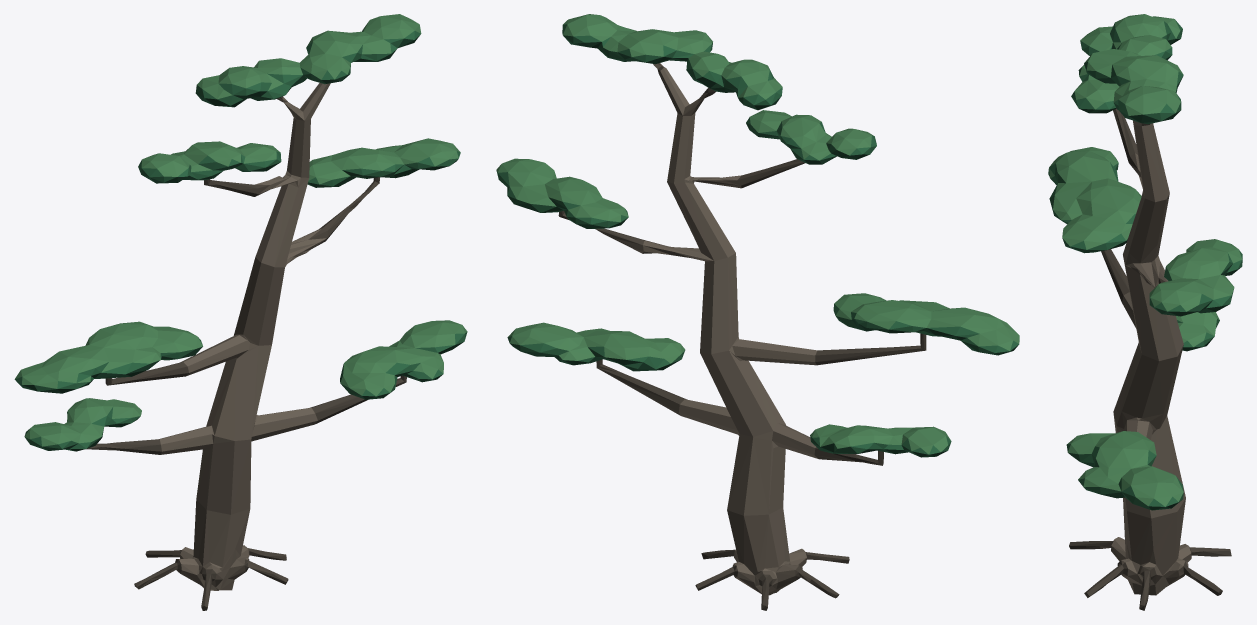
Rendered from ancient-pine-1247-lod1.glb.
The picture shows the model from 3 angles, left to right: view 1: azimuth 30°, elevation 25°; view 2: azimuth 150°, elevation 25°; view 3: azimuth 270°, elevation 25°; orthographic projection. The views are drawn at different scales.
Parts seen in each view (by area): view 1: n12.005, n8.005, n11.005, n9.005, n10.005; view 2: n8.005, n12.005, n11.005, n9.005, n10.005; view 3: n12.005, n8.005, n11.005, n9.005, n10.005.
Boxes of the visible parts, x1,y1,x2,y2 form: n12.005: (15,14,467,446); n8.005: (159,83,330,590); n11.005: (15,30,467,449); n9.005: (86,96,406,610); n10.005: (16,35,463,451); n8.005: (626,63,818,595); n12.005: (496,14,1019,454); n11.005: (496,24,1018,454); n9.005: (558,63,926,610); n10.005: (499,36,1018,457); n12.005: (1049,14,1242,506); n8.005: (1100,120,1191,595); n11.005: (1048,20,1242,506); n9.005: (1069,108,1231,610); n10.005: (1050,39,1241,510).
Size of the model in its own units: 5.14 by 5.43 by 1.6.
